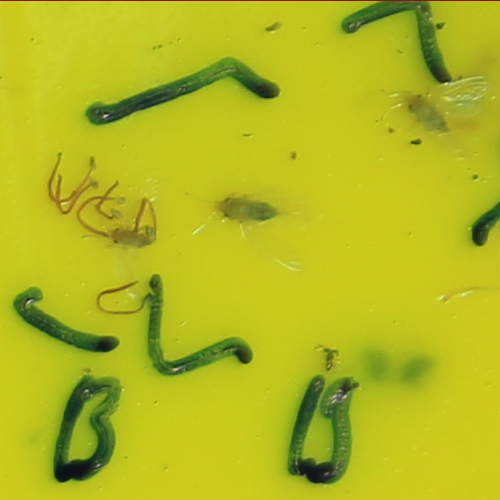Glycaspis: (400, 92, 450, 132), (219, 194, 282, 224), (107, 224, 163, 246)
